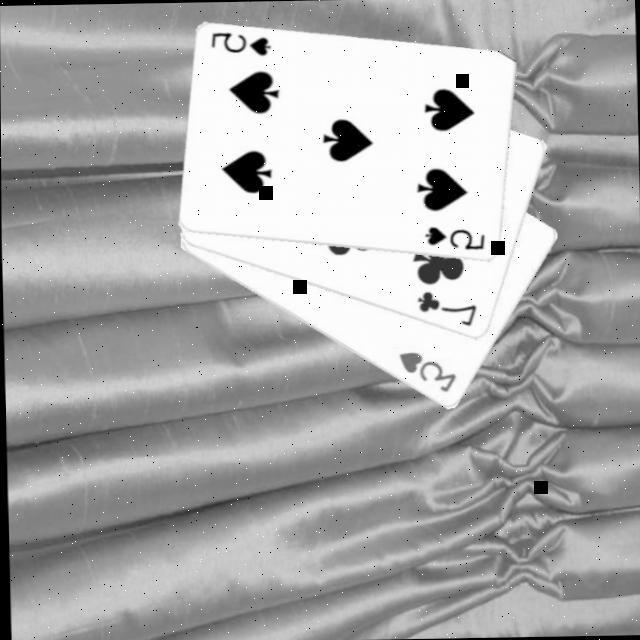3H: (395, 349, 460, 398)
5S: (208, 29, 276, 62), (422, 224, 489, 256)
7C: (414, 289, 480, 332)
